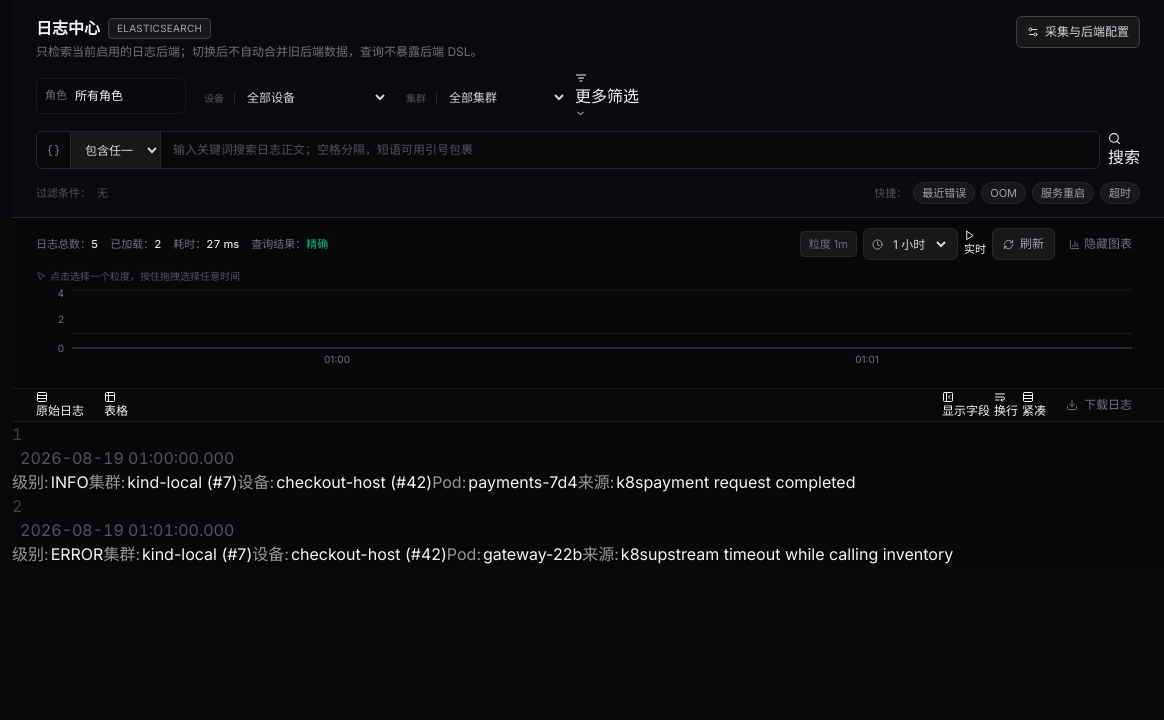
Scenario: LogsPage › resolves a cluster name from topology when logs contain only cluster_id
The image size is (1164, 720).
expect the text "payment request completed" is shown: met, box [643,472,855,492]
expect the list item "payment request completed" shows "集群:kind-local (#7)": met, box [12,424,855,492]
Step 1. Click the button "表格" → (116, 405), box [104,391,128,419]
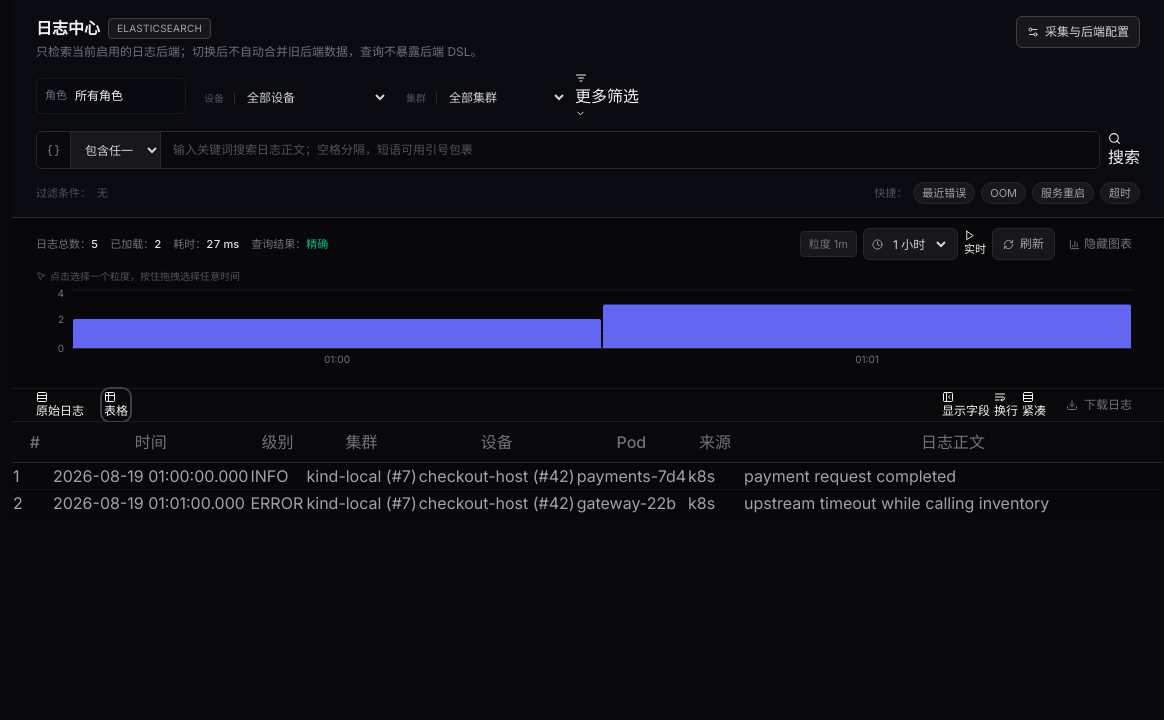
expect the text "payment request completed" shows "kind-local (#7)": met, box [306,466,417,486]
